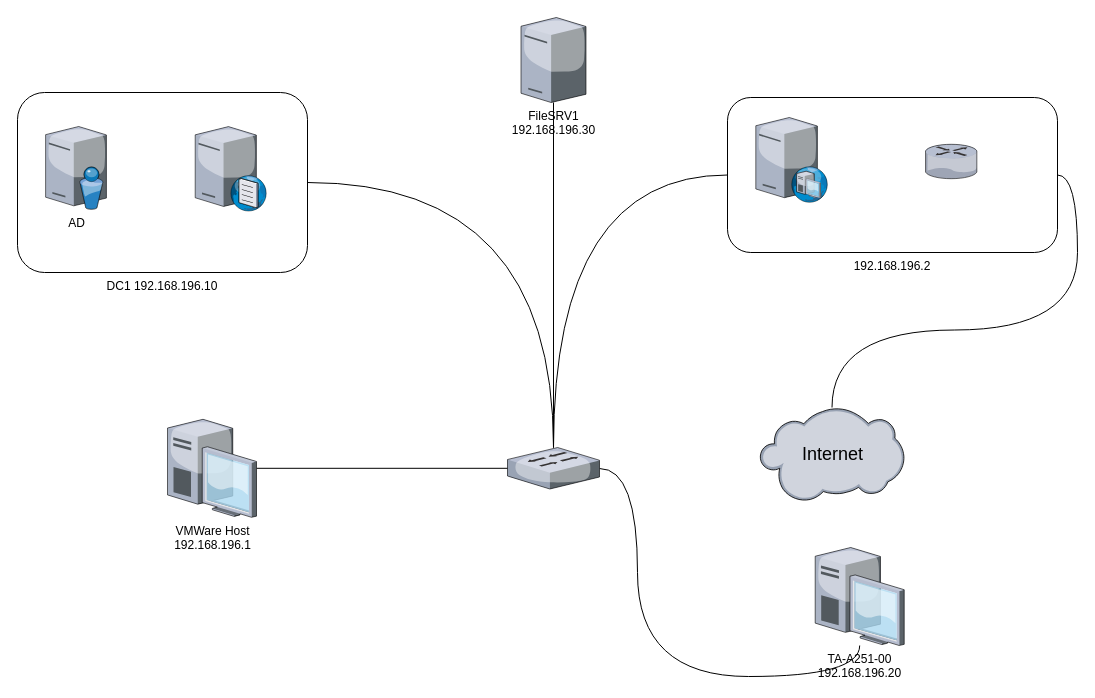
Image size: 1095x698. Some labels were removed from this diagram. Here are the shapes that lost their labels. From the top down, the box of each, then its label:
(195, 124, 266, 210): DNS
(755, 117, 827, 202): VMware DHCP
(925, 144, 977, 178): VMWare Default Gateway
(507, 447, 599, 488): firma.intra192.168.196.0
